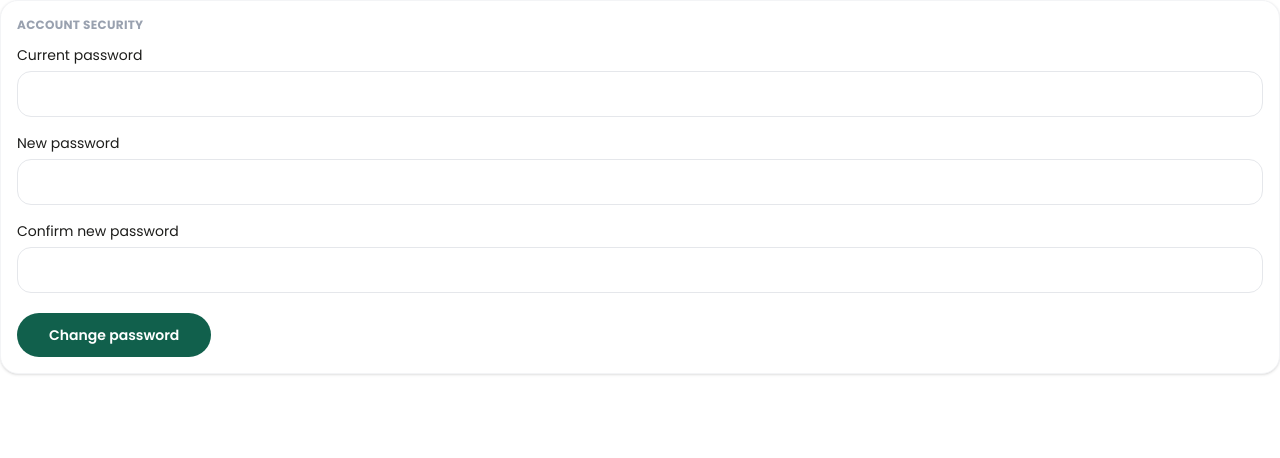
ChangePasswordForm › blocks submit and shows required errors on an empty form
The width and height of the screenshot is (1280, 458).
What coordinates should you click on to do the following:
click the button "Change password"
I would click on:
 (114, 335)
Its box is [17,313,211,357].
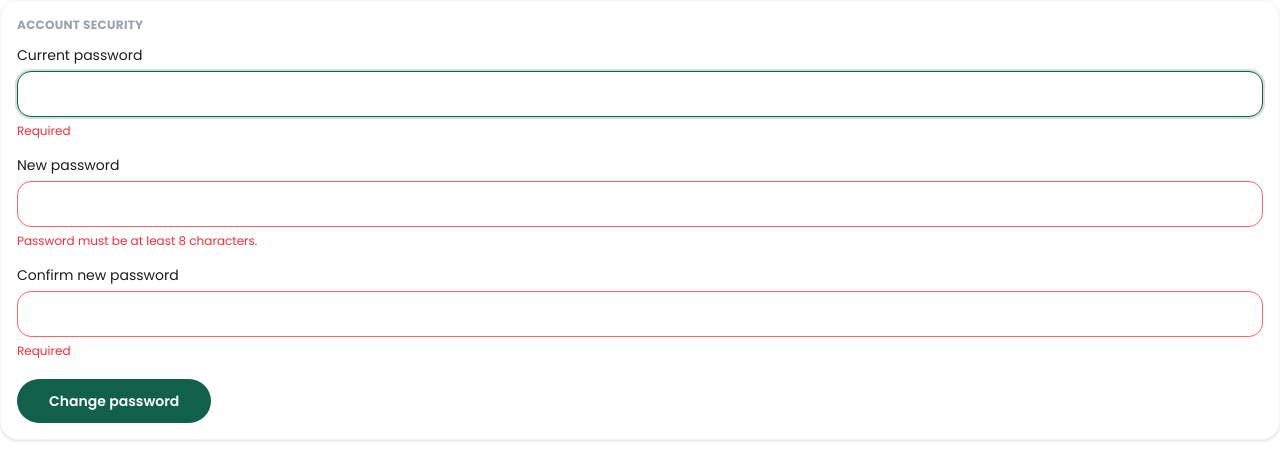
Result: the text "Required" below "Current password" is shown at [17,122,70,139]
